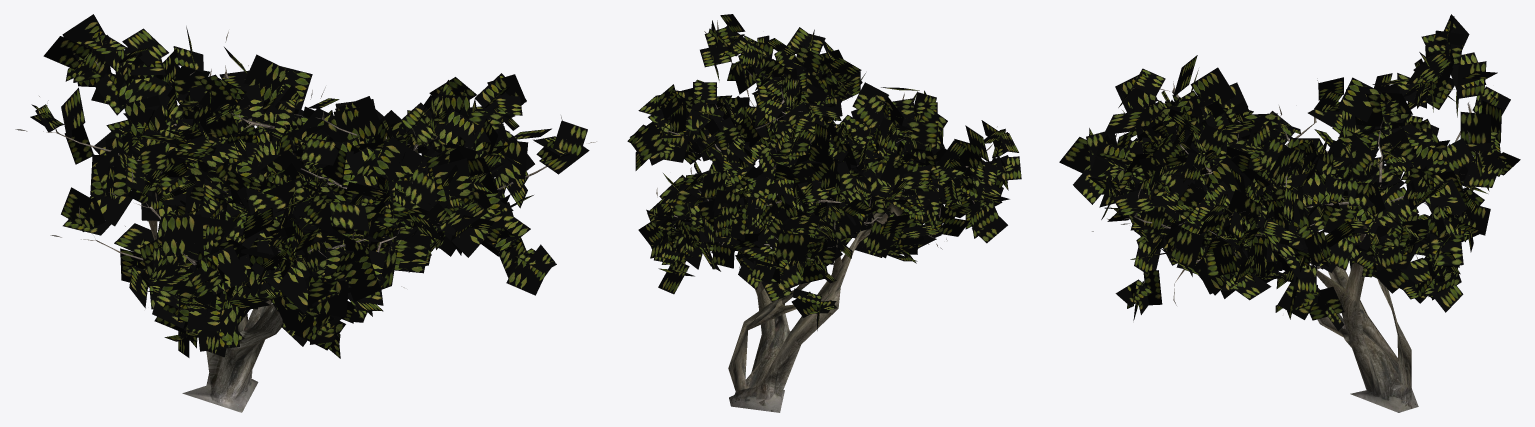
File: tree_island_b.glb
3 views of the same model, side by side, from view 1: azimuth 30°, elevation 25°; view 2: azimuth 150°, elevation 25°; view 3: azimuth 270°, elevation 25° (orthographic). The views are drawn at different scales.
Bounding box in the file's own units: 4.21 × 3.55 × 4.4.
3 materials, 3 textured.
